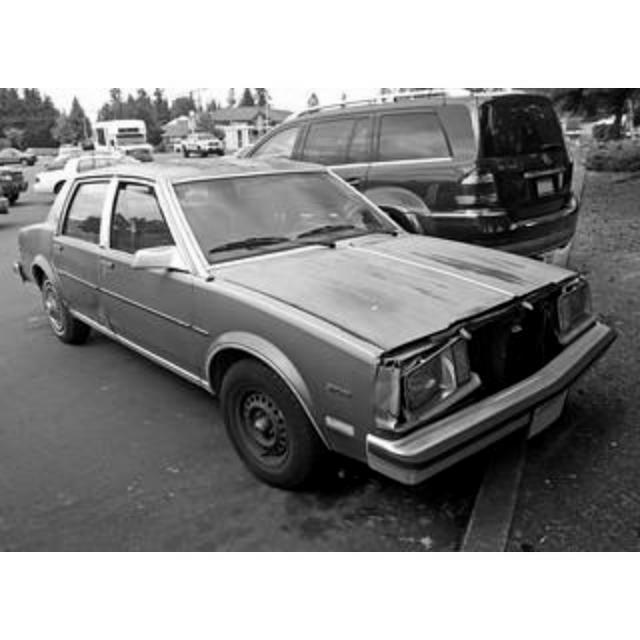Headlight-damage: (382, 330, 480, 420), (556, 268, 604, 356)
bonnet-dent: (246, 234, 550, 332)
doorouter-dent: (74, 284, 114, 336)
roof-dent: (80, 152, 330, 182)
